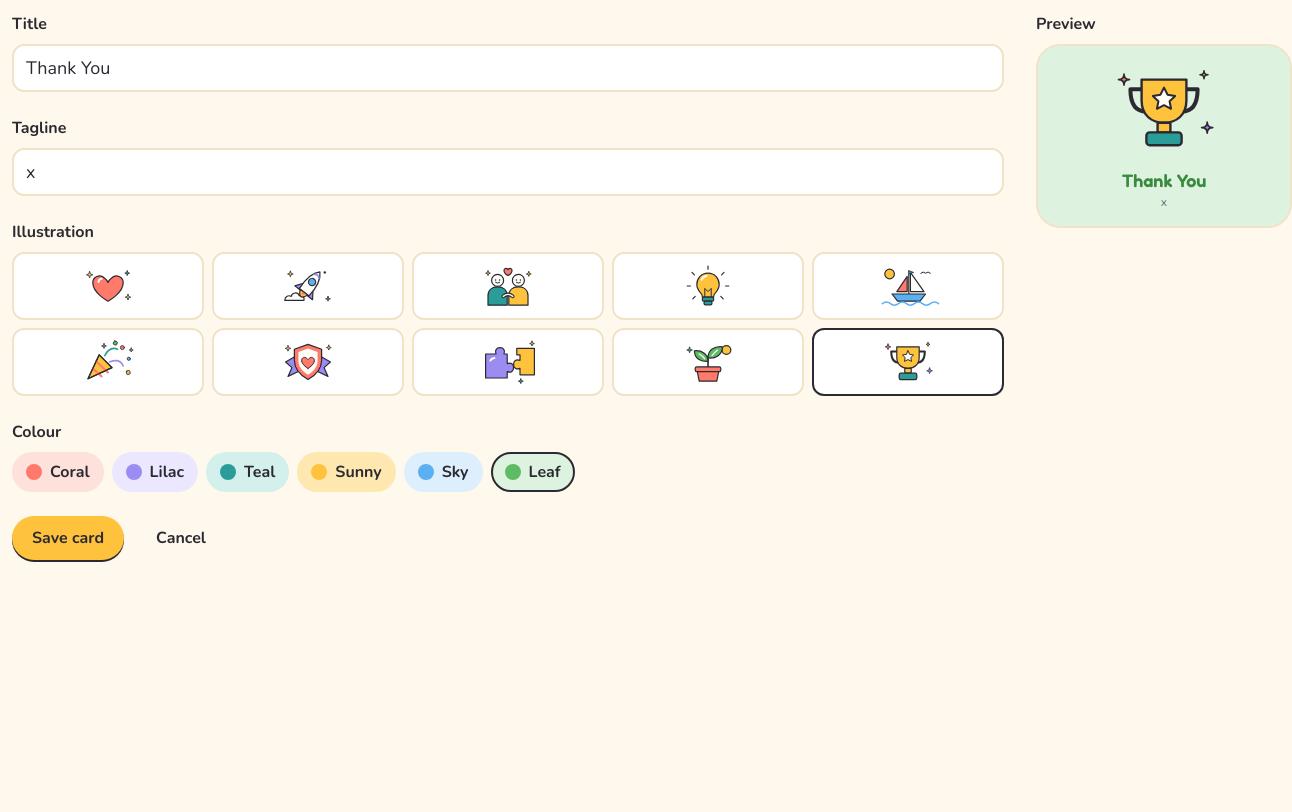
Test case: CardForm › shows field errors from the action
Click the button "Save card": {"x": 68, "y": 538} [12, 516, 124, 560]
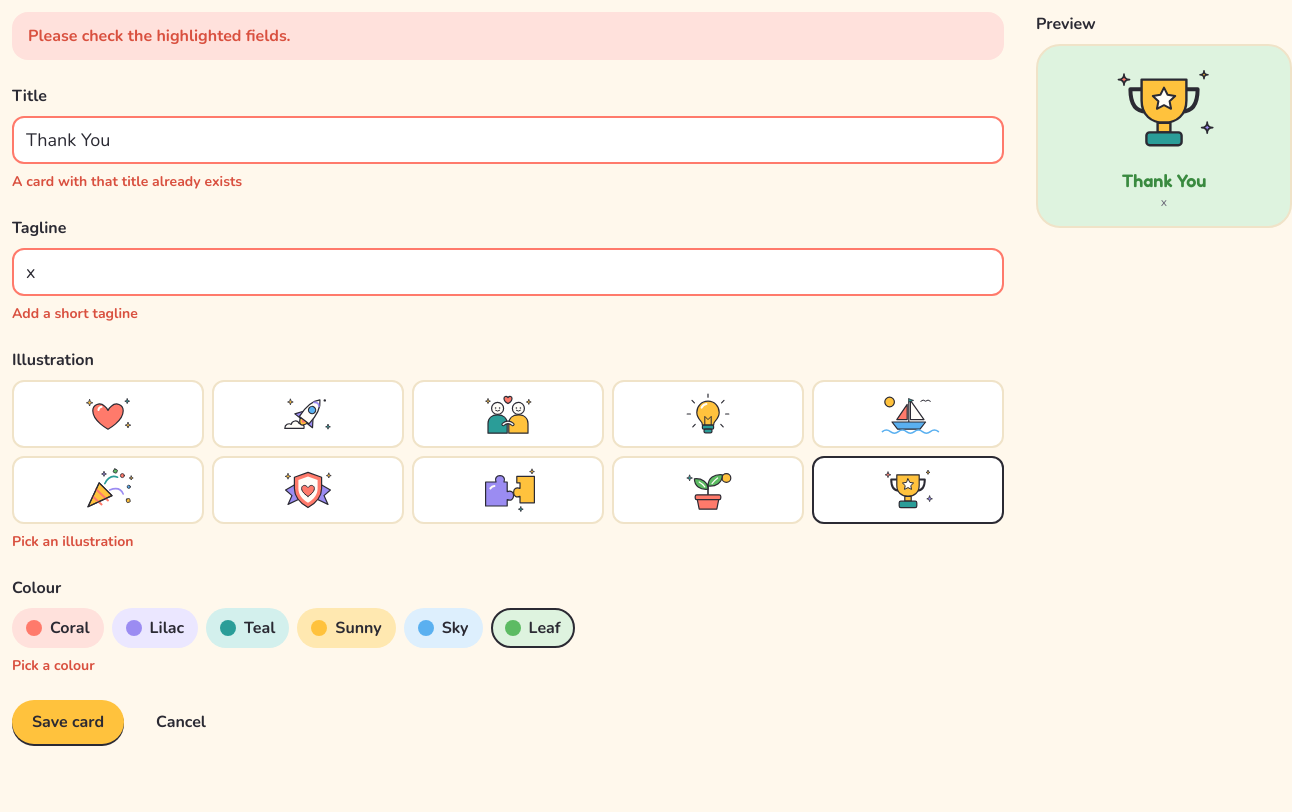
Now the message reads "Please check the highlighted fields.", box [28, 25, 291, 47]
Now the text "A card with that title already exists" is shown, box [12, 172, 242, 191]
Now the text "Add a short tagline" is shown, box [12, 304, 138, 323]
